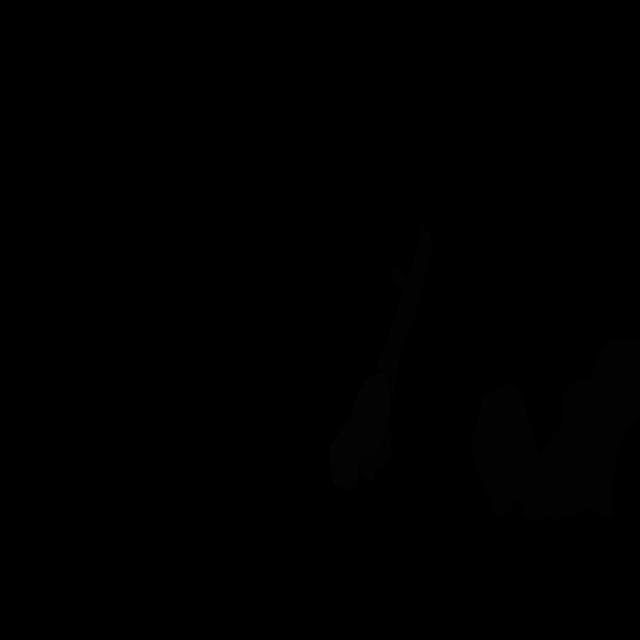cardboard: (519, 335, 640, 522), (358, 224, 433, 481), (470, 383, 542, 516)
metal: (330, 372, 390, 490)
